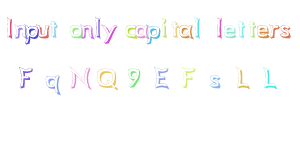9: (123, 62, 148, 93)
E: (148, 62, 177, 93)
F: (177, 63, 204, 95), (12, 60, 37, 91)
I: (1, 12, 19, 41)
L: (256, 62, 285, 95), (228, 62, 257, 93)
N: (67, 62, 94, 92)
Q: (94, 62, 123, 92)
a: (177, 21, 195, 42), (133, 21, 150, 41)
c: (122, 22, 138, 42)
e: (223, 21, 237, 42), (256, 22, 270, 41)
i: (160, 16, 169, 40)
l: (213, 14, 225, 40), (194, 14, 205, 40), (94, 14, 102, 40)
n: (13, 20, 29, 41), (79, 20, 95, 41)
o: (67, 22, 85, 41)
p: (23, 21, 41, 45), (145, 21, 161, 46)
q: (40, 71, 66, 99)
r: (269, 20, 280, 42)
s: (204, 69, 228, 95), (280, 19, 295, 42)
t: (49, 17, 61, 42), (246, 15, 258, 40), (236, 17, 247, 39), (170, 20, 181, 40)
u: (34, 21, 50, 40)
y: (101, 21, 119, 45)
